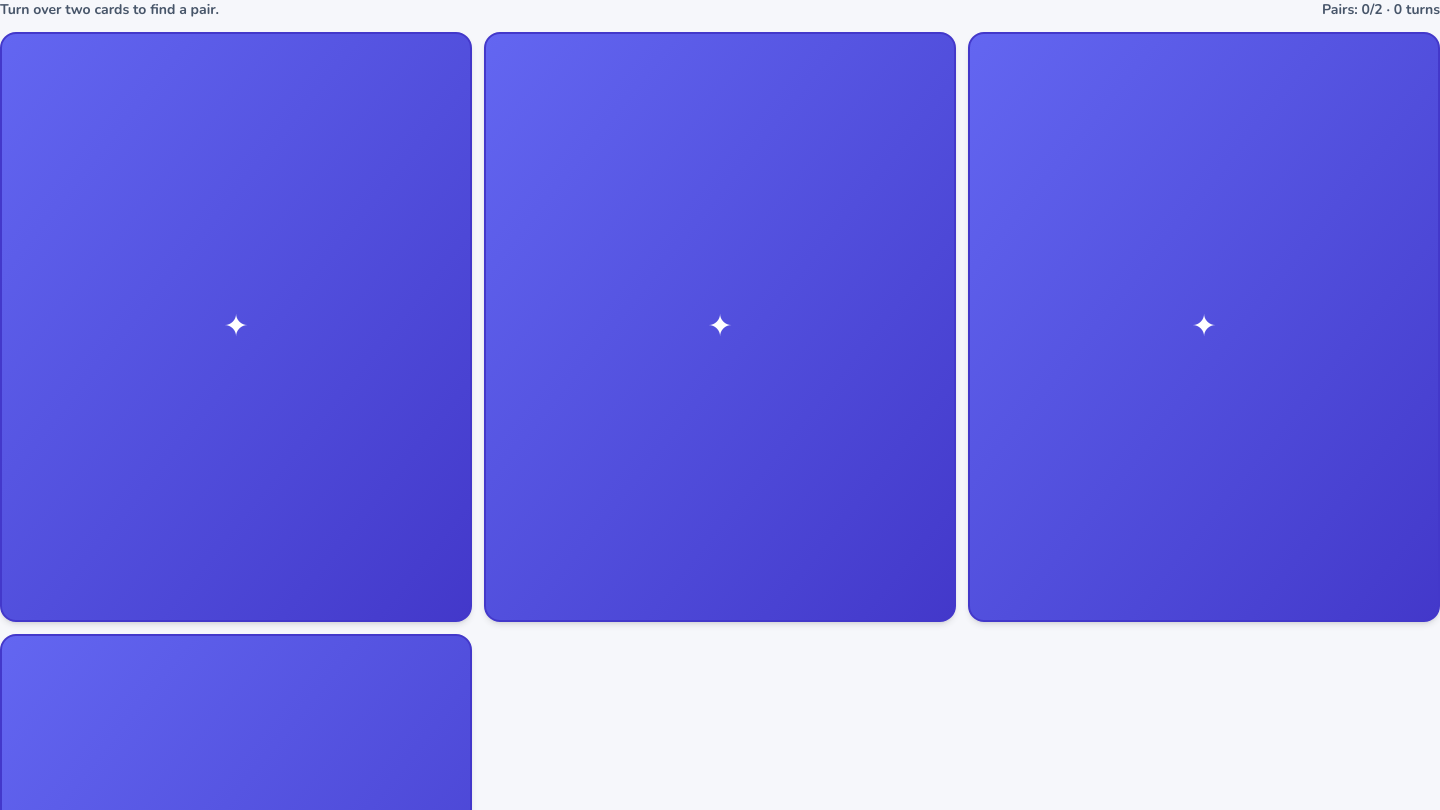
Scenario: memory cards › turns cards, keeps pairs, turns others back, and submits with the number of turns
The width and height of the screenshot is (1440, 810).
A wrong pair: both show, then turn back.
Click the button with aria-label "Card 1, face down" at (236, 327), box [0,32,472,622]
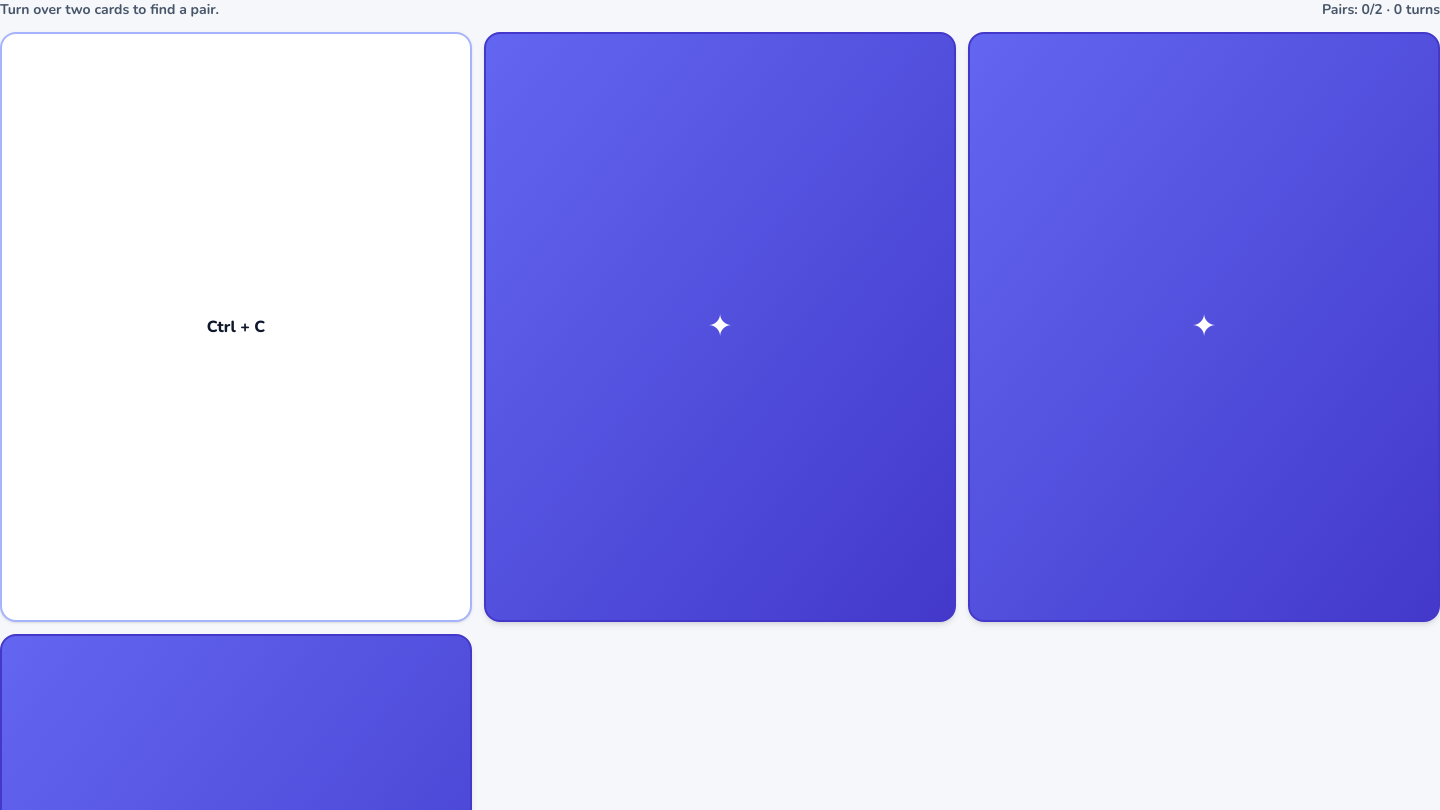
Click the button with aria-label "Card 2, face down" at (720, 327), box [484,32,956,622]
Wait 1100 ms
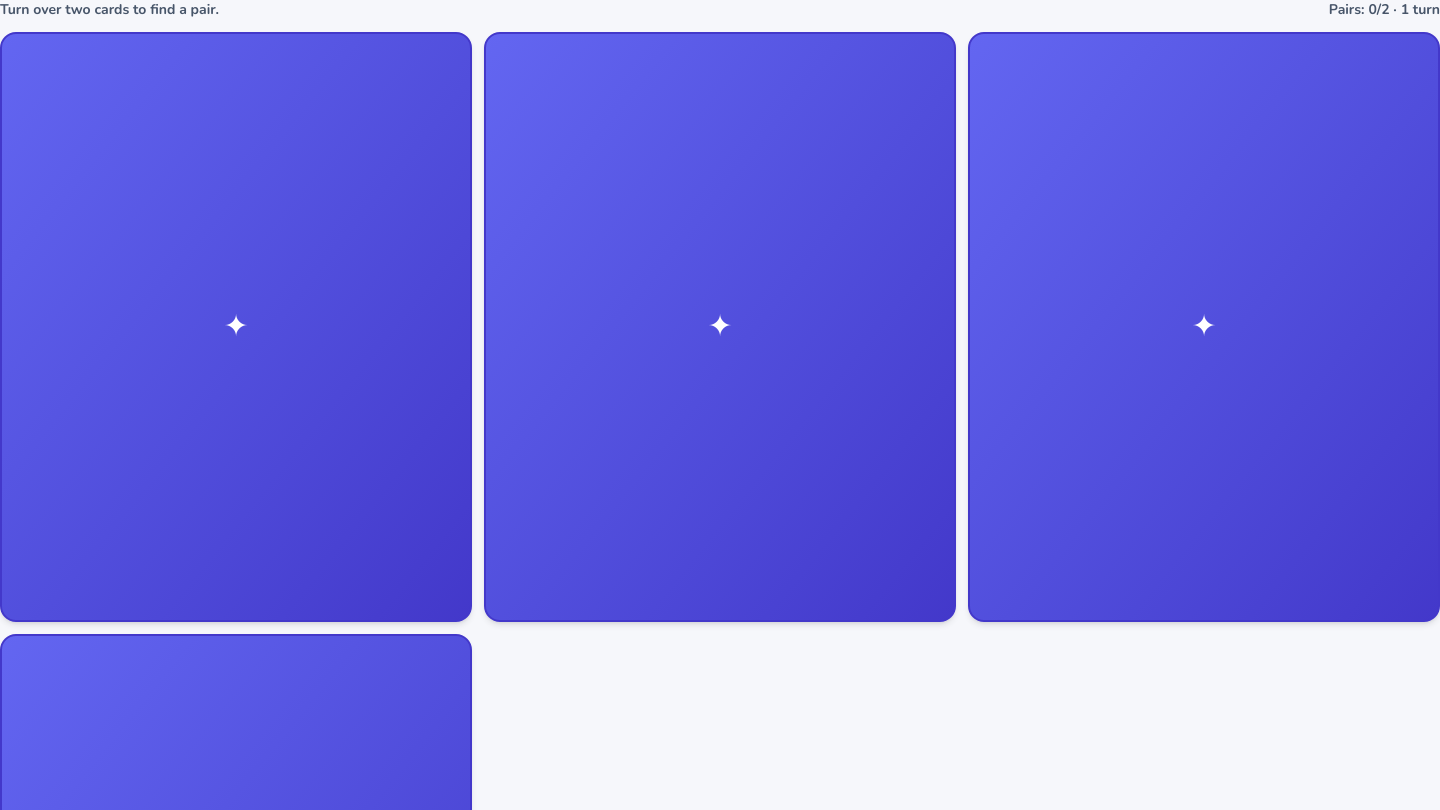
Click the button with aria-label "Card 1, face down" at (236, 327), box [0,32,472,622]
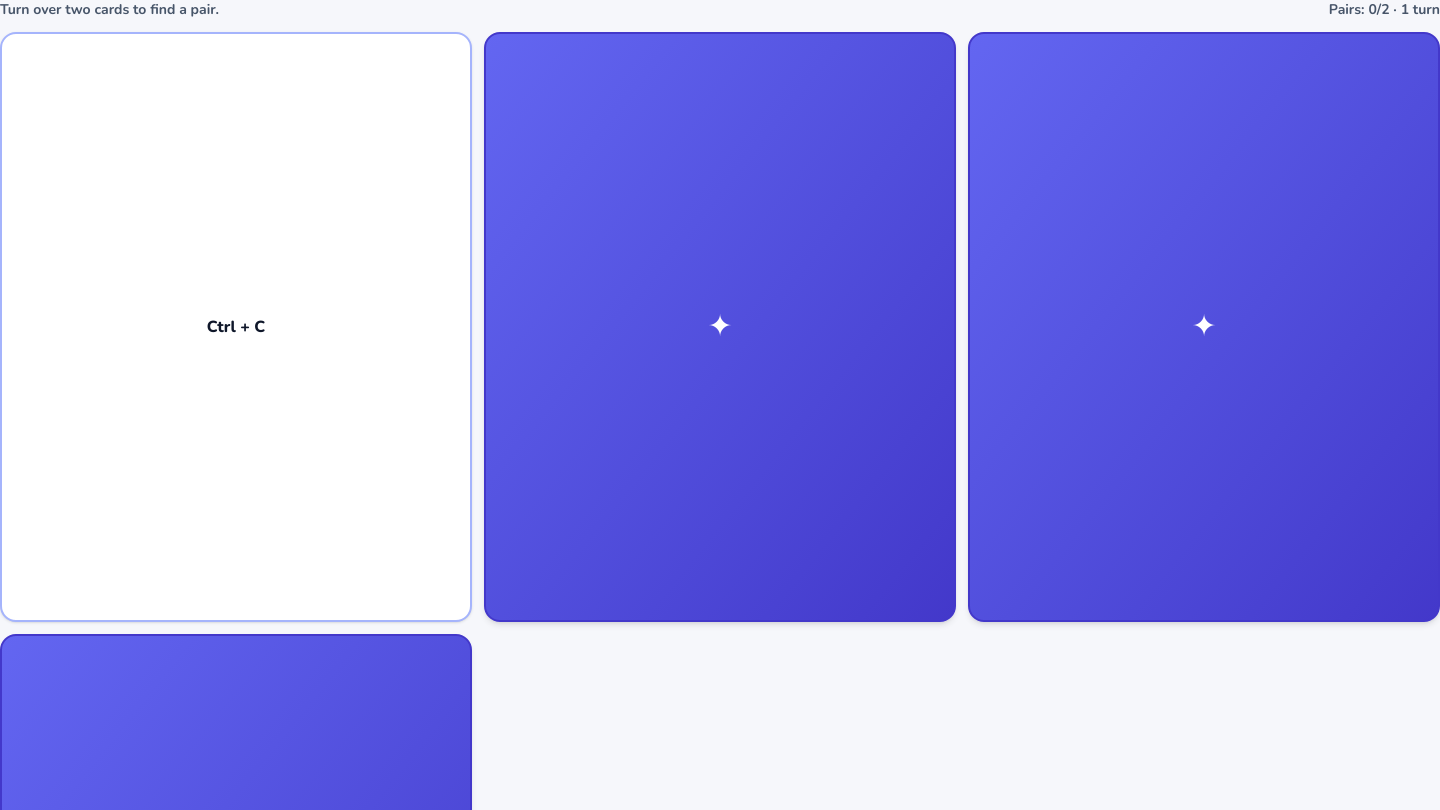
Click the button with aria-label "Card 3, face down" at (1204, 327), box [968,32,1439,622]
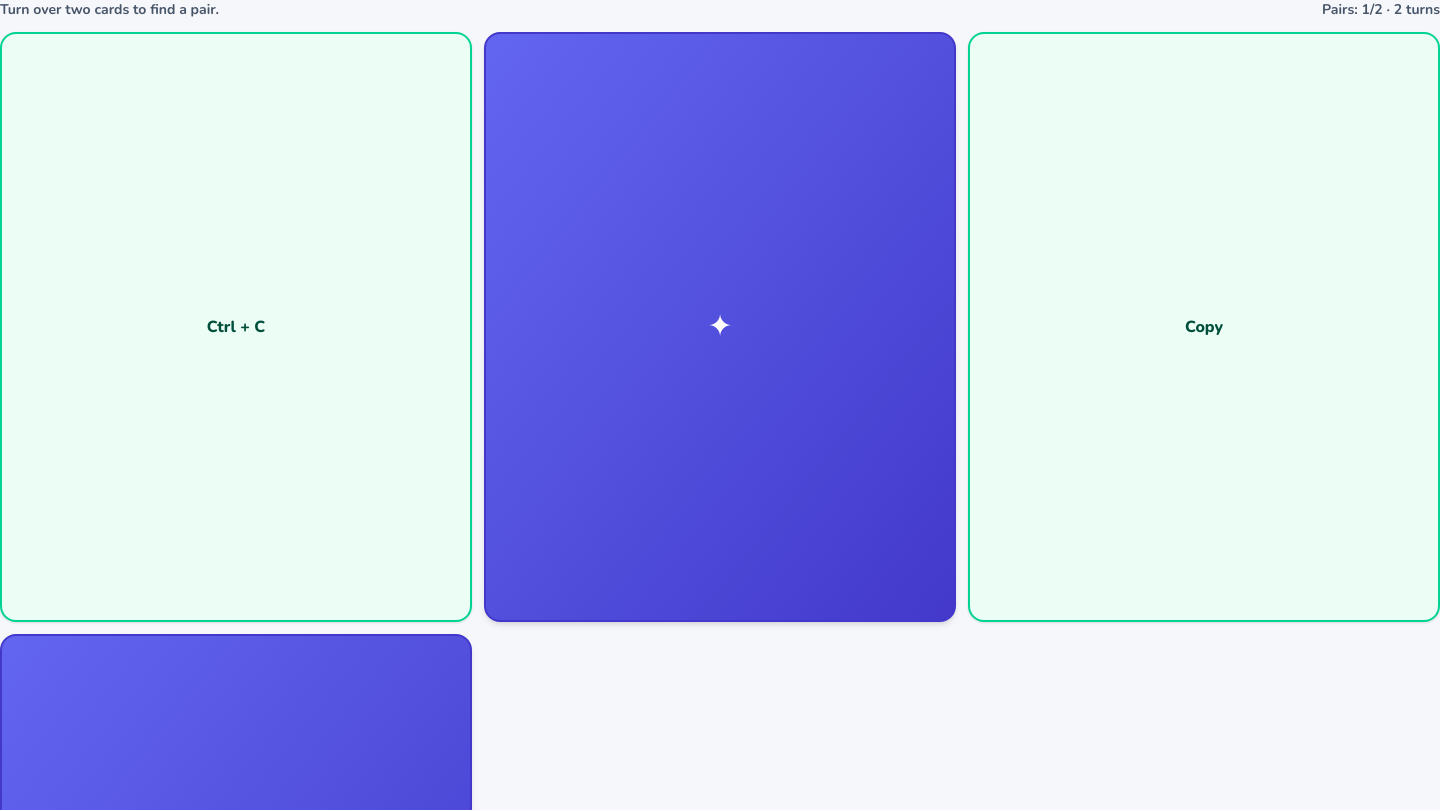
Click the button with aria-label "Card 2, face down" at (720, 327), box [484,32,956,622]
(page scrolled)
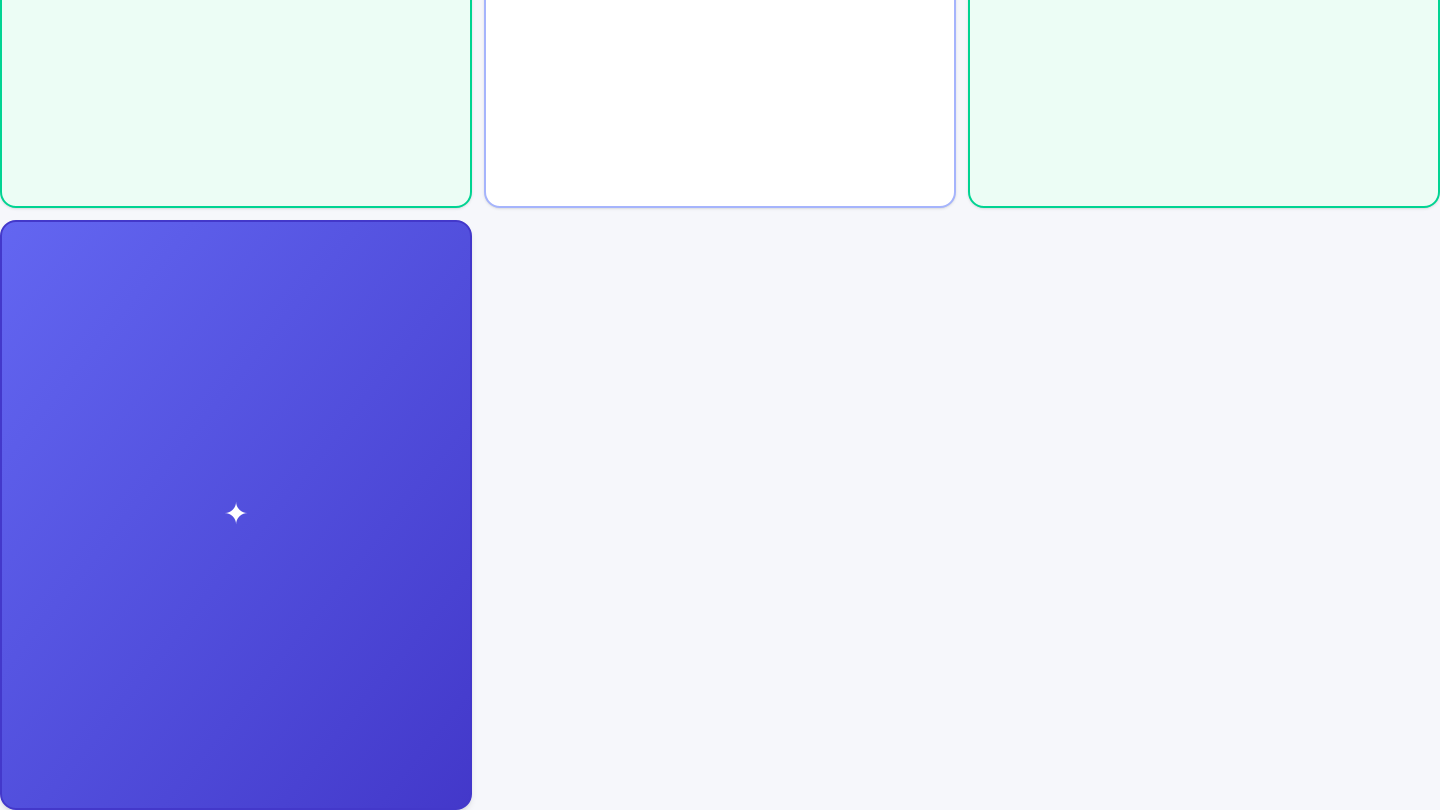
Click the button with aria-label "Card 4, face down" at (236, 515), box [0,220,472,809]
Wait 800 ms
(page scrolled)
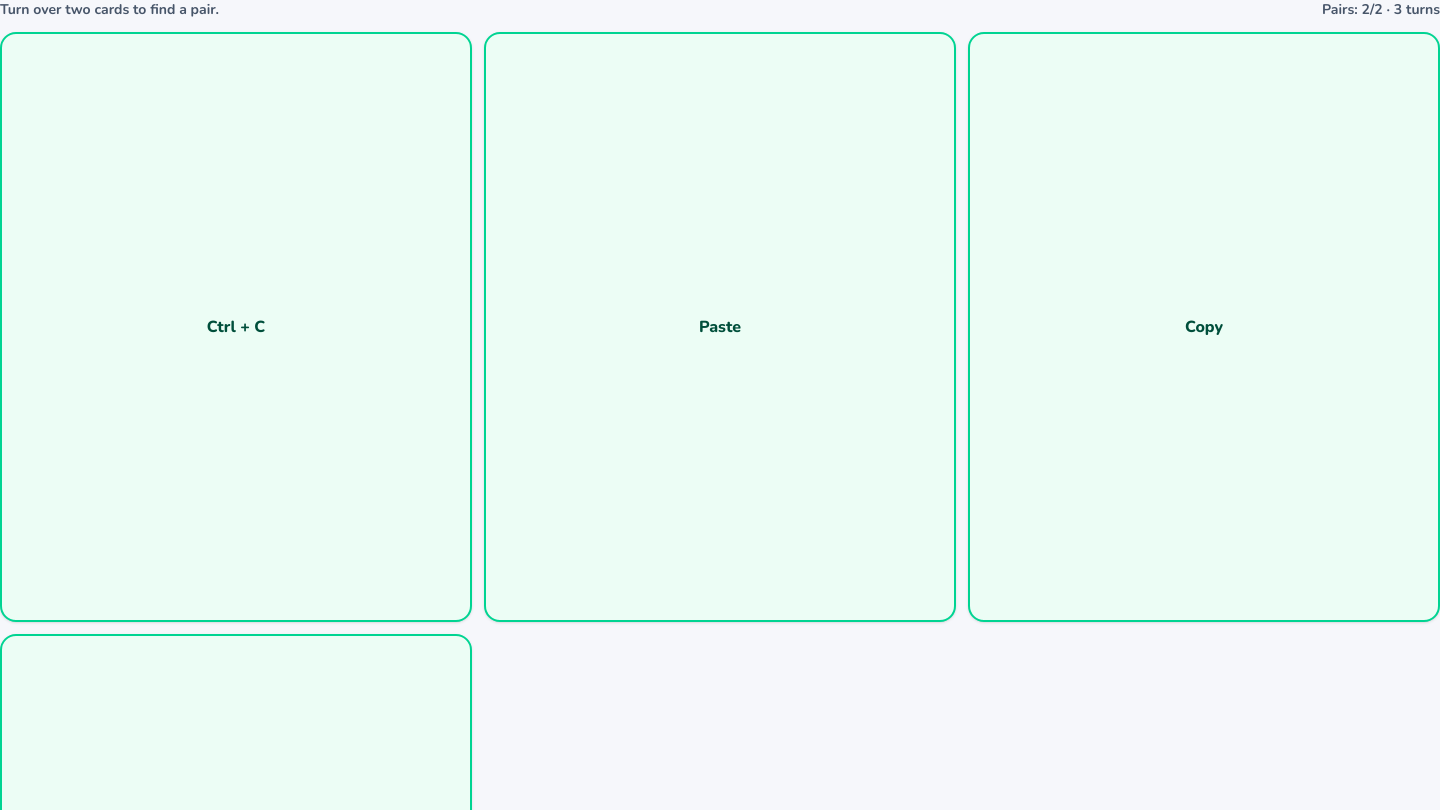
Expected: the text "Pairs: 2/2 · 3 turns" is shown, [1322,0,1439,20]
